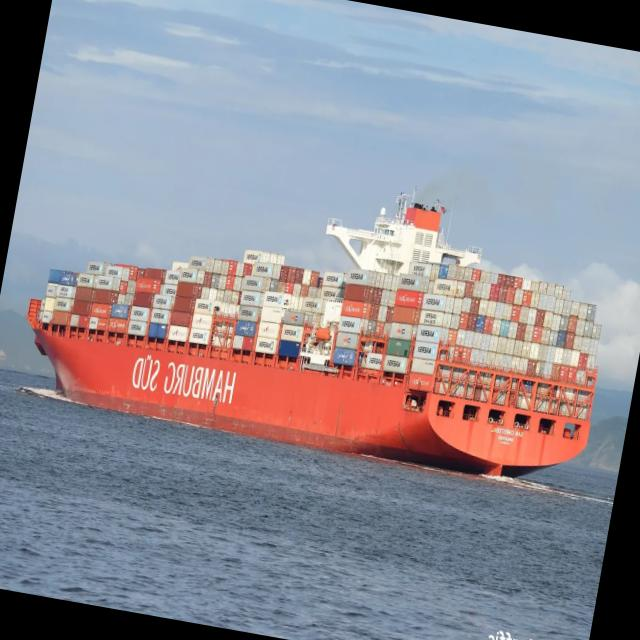Cargo: (27, 194, 601, 475)
